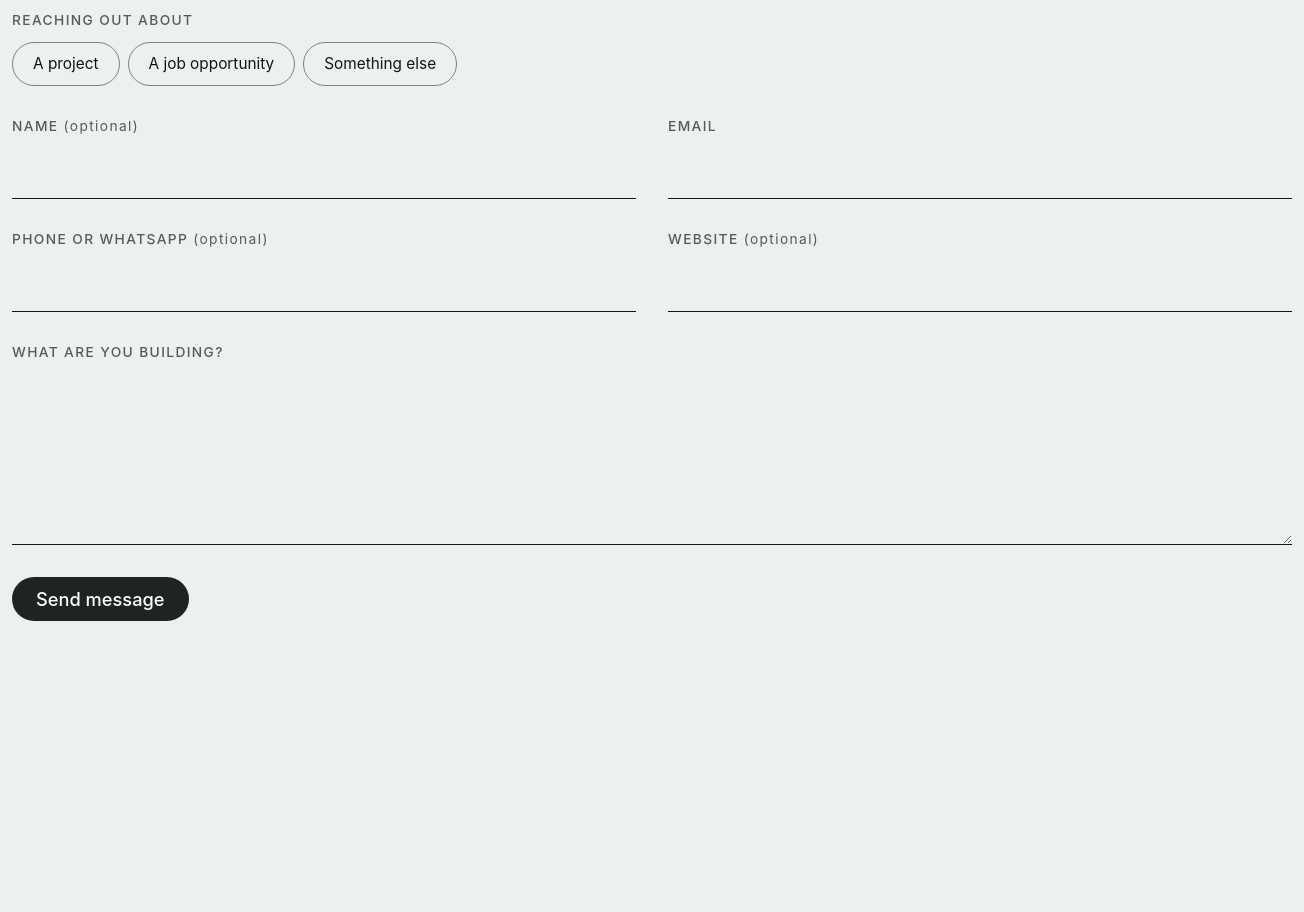
it: keeps what was typed after a network failure
Click the radio button labelled "A project" at (66, 64), box top-left (12, 42), bottom-right (120, 86)
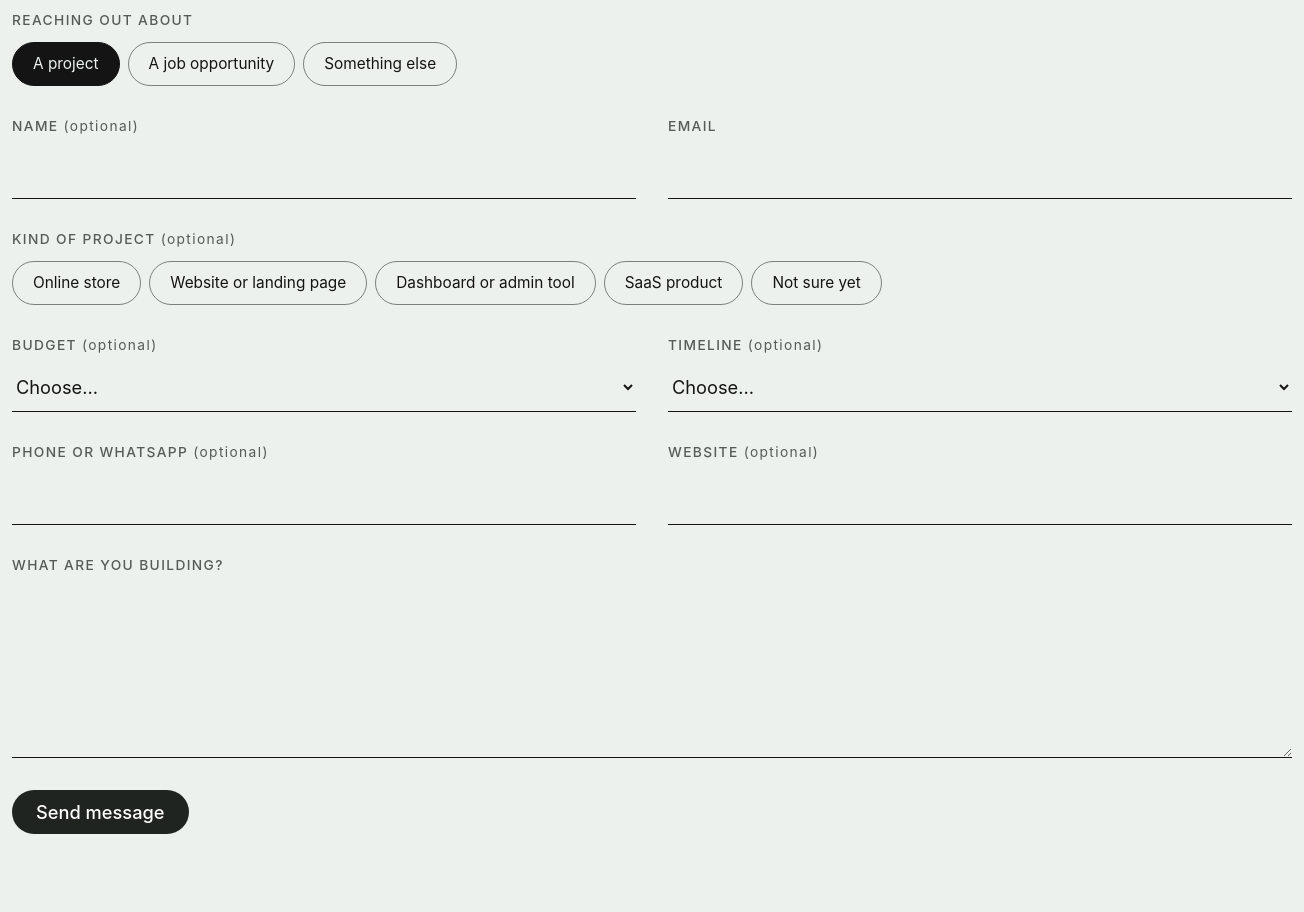
Type "kim@studio.co" into the field labelled "Email" at (980, 171), box top-left (668, 144), bottom-right (1292, 199)
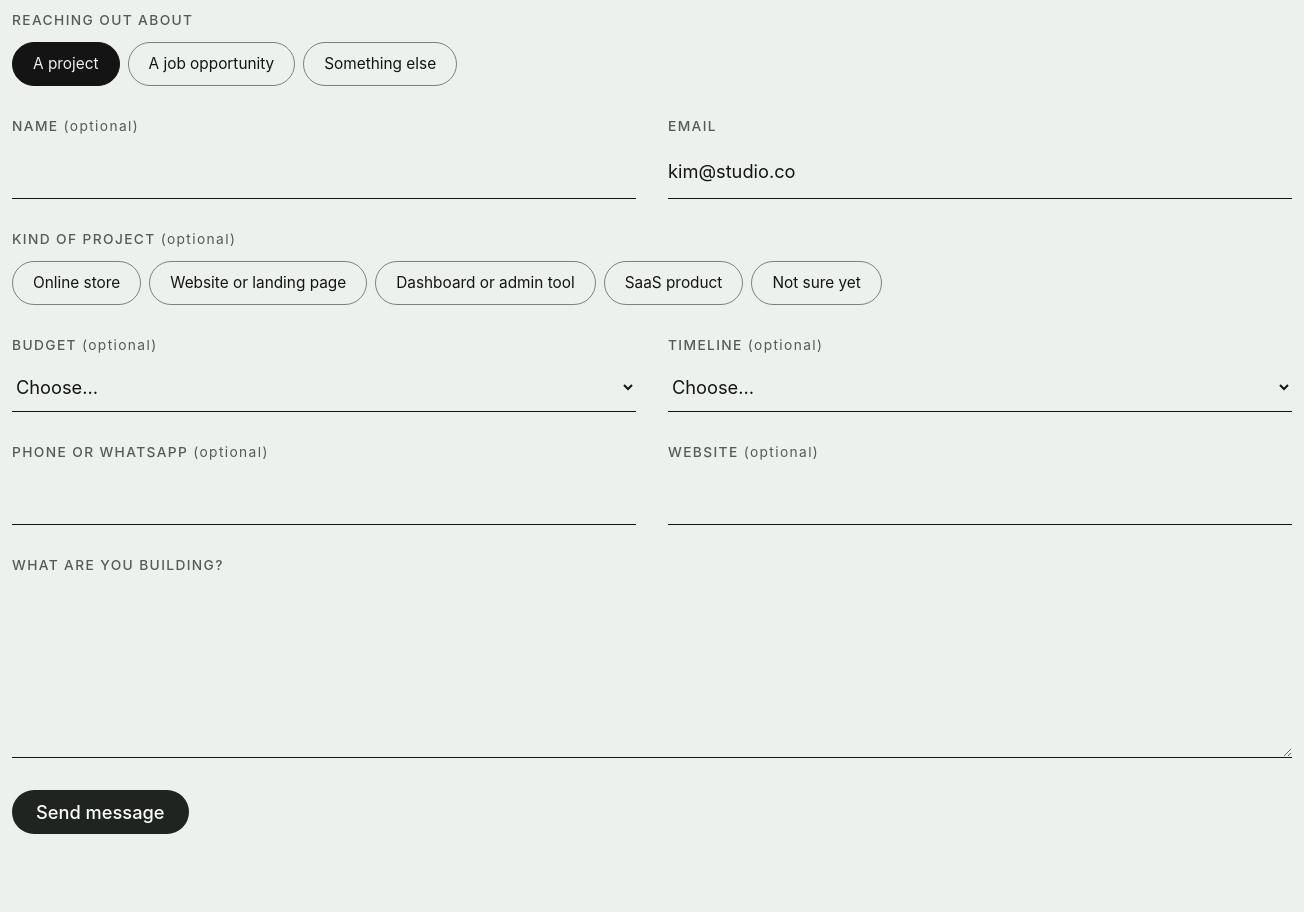
Type "Please call me back soon." into the text box labelled "What are you building?" at (652, 670), box top-left (12, 582), bottom-right (1292, 758)
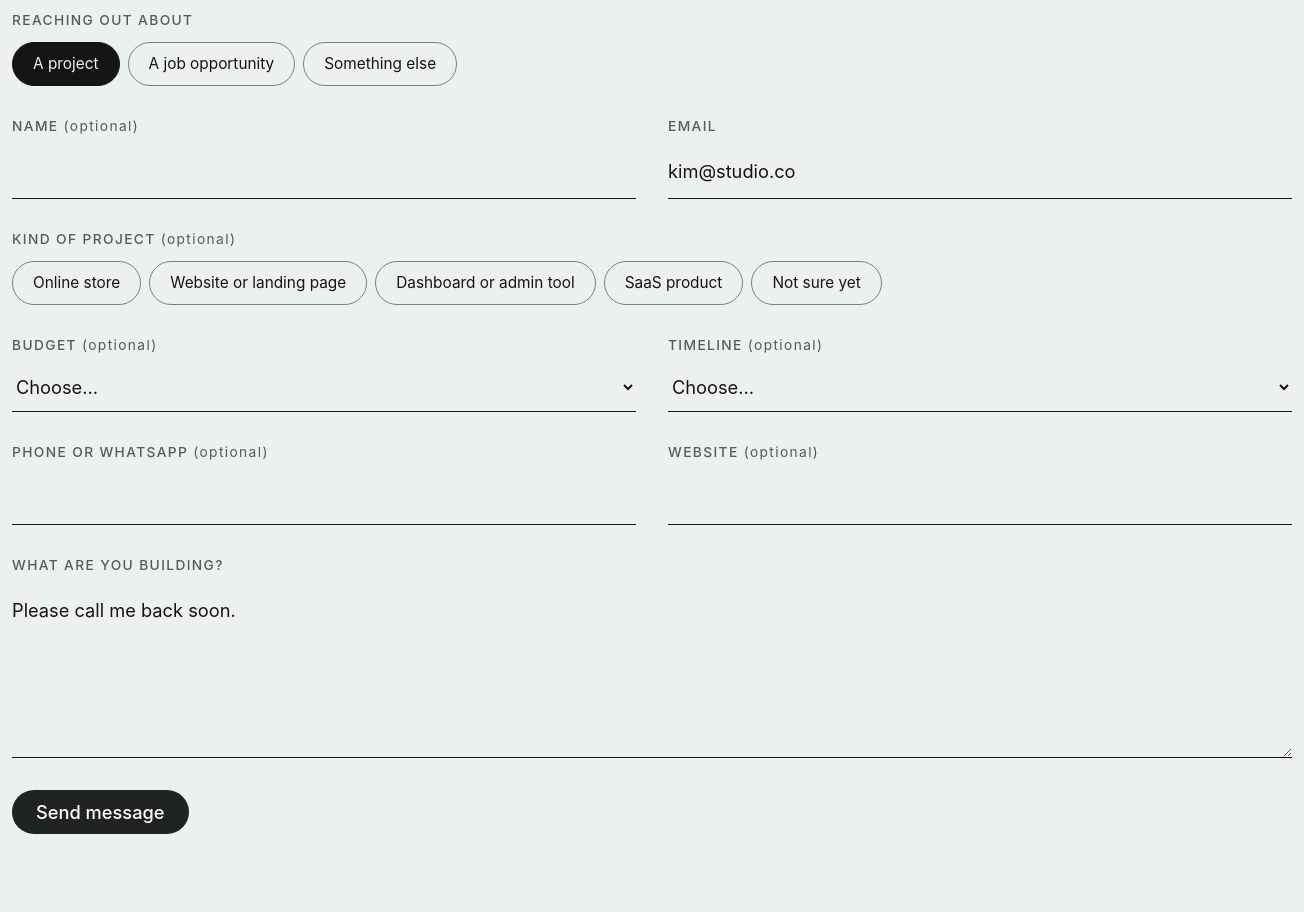
Click the button "Send message" at (100, 812), box top-left (12, 790), bottom-right (188, 834)
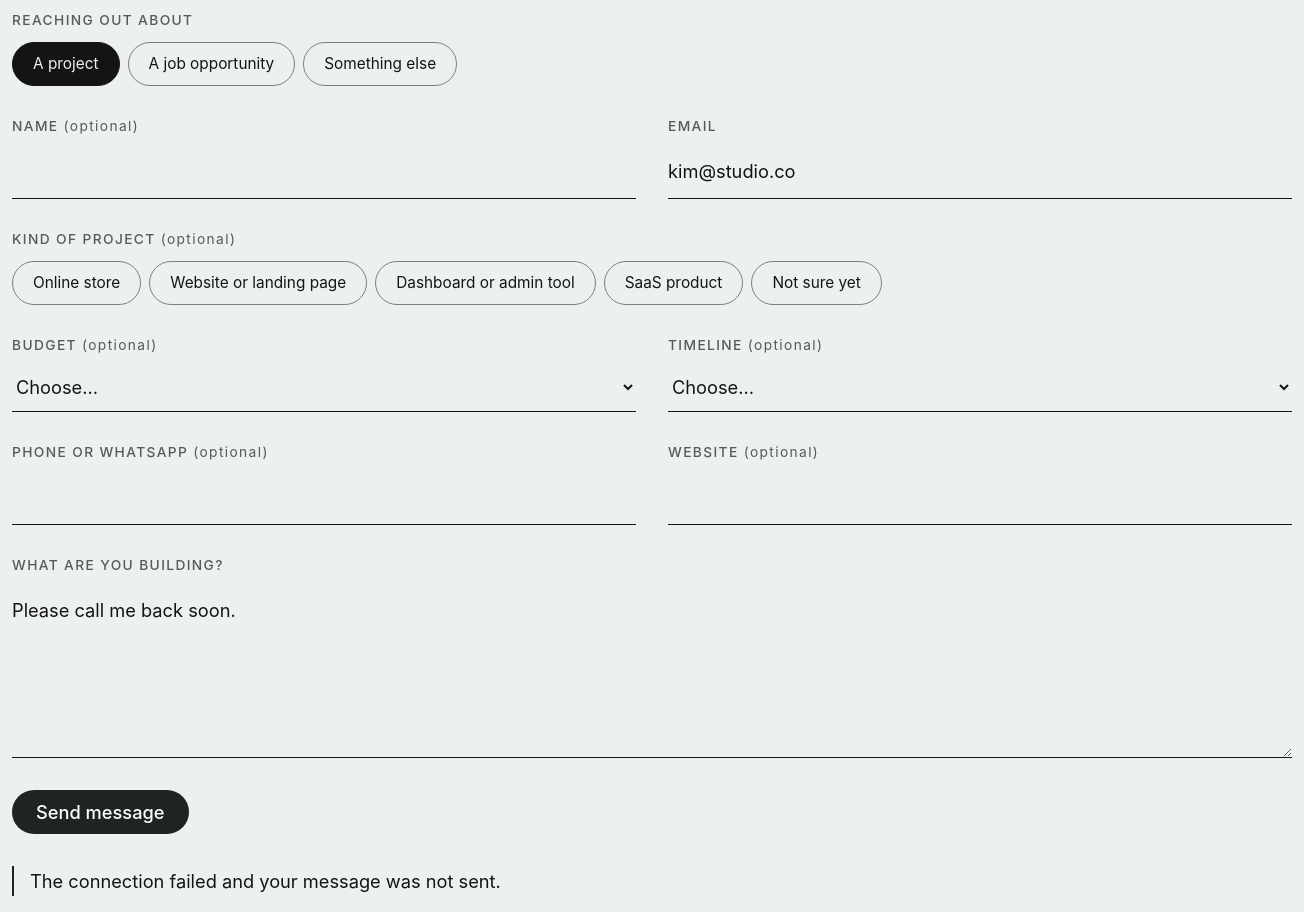
Expected: the message "The connection failed and your message was not sent." is shown, top-left (12, 866), bottom-right (722, 896)
